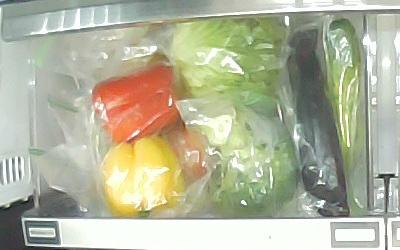broccoli_vinyl: (205, 113, 299, 216)
cucumber_vinyl: (325, 19, 369, 210)
eggplant_vinyl: (284, 31, 349, 217)
lettuce_vinyl: (170, 18, 283, 116)
paprika_vinyl: (93, 64, 182, 144), (101, 136, 184, 219)
